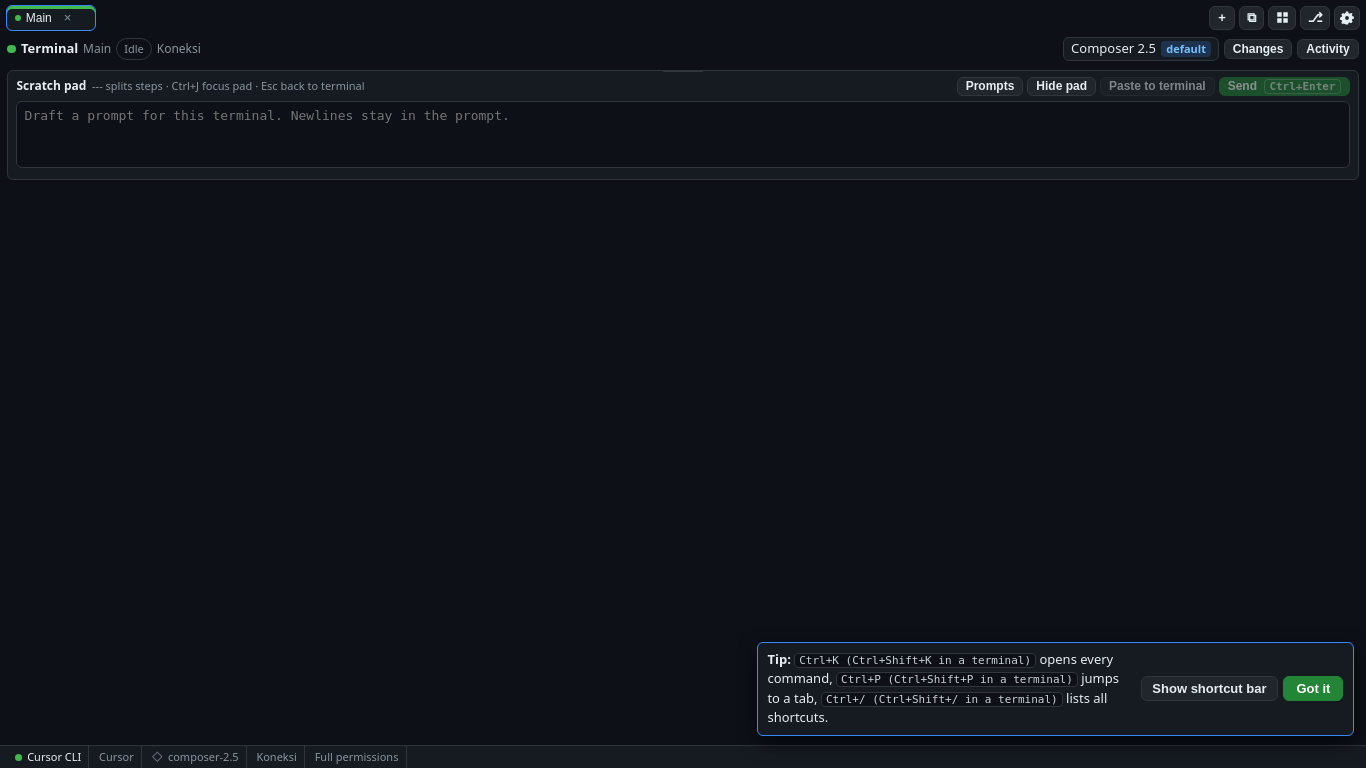
Scenario: changes (diff) panel › opens the activity log next to Changes
Click the button "Activity" at (1328, 49), box [1297,39,1359,58]
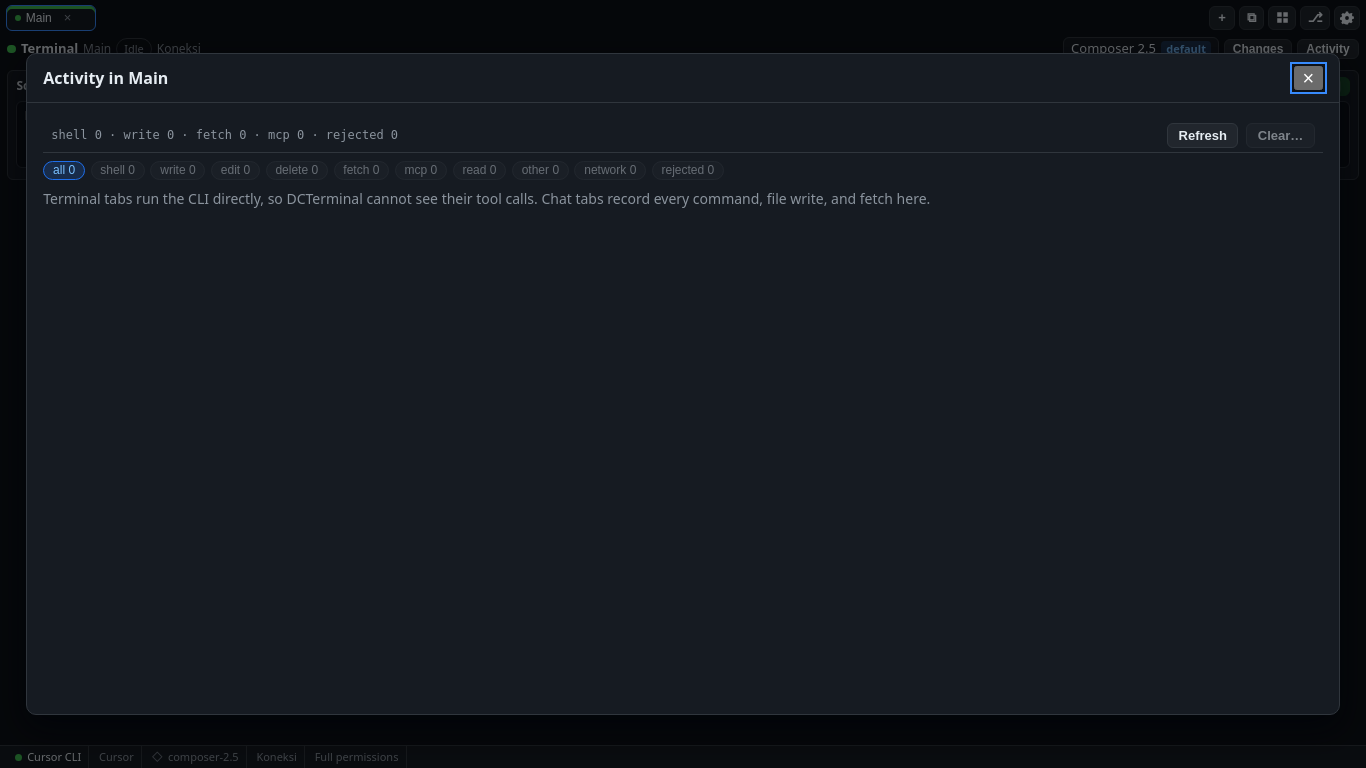
Now the dialog "Activity in Main" shows "Terminal tabs run the CLI directly", box [43,189,930,208]
Click the button named "Close" at (1308, 78), box [1294,66,1323,90]
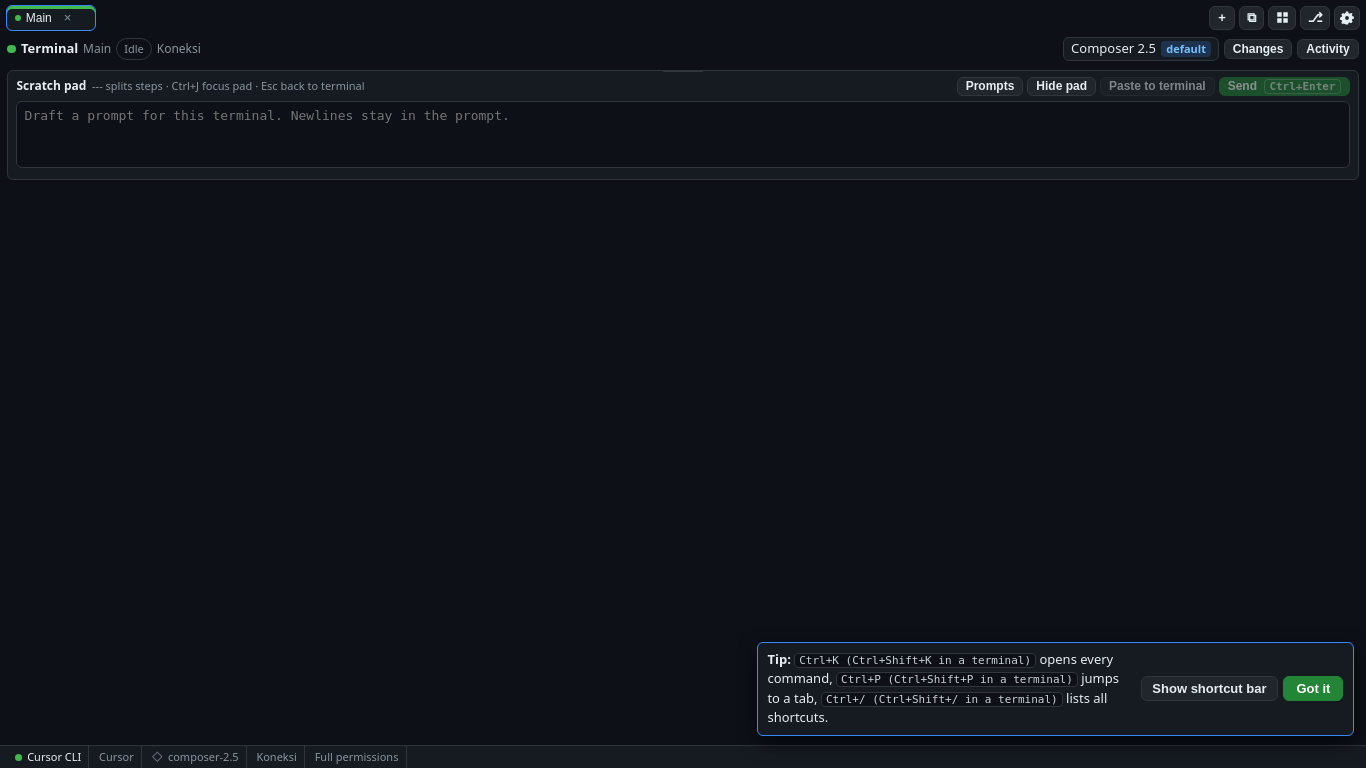
Now the heading "Activity in Main" is gone
